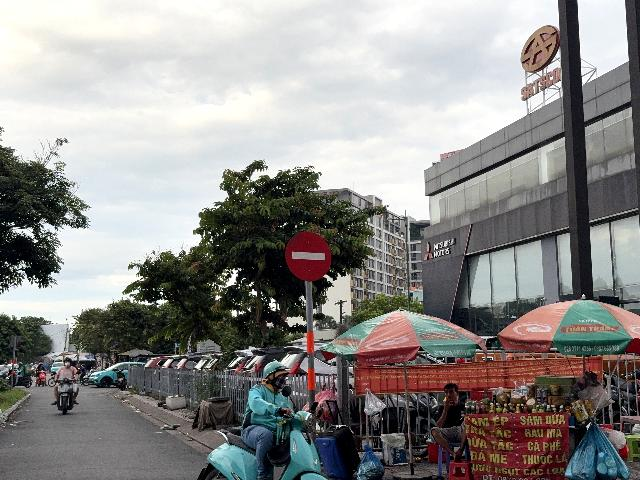cam-di-nguoc-chieu: (284, 231, 331, 281)
